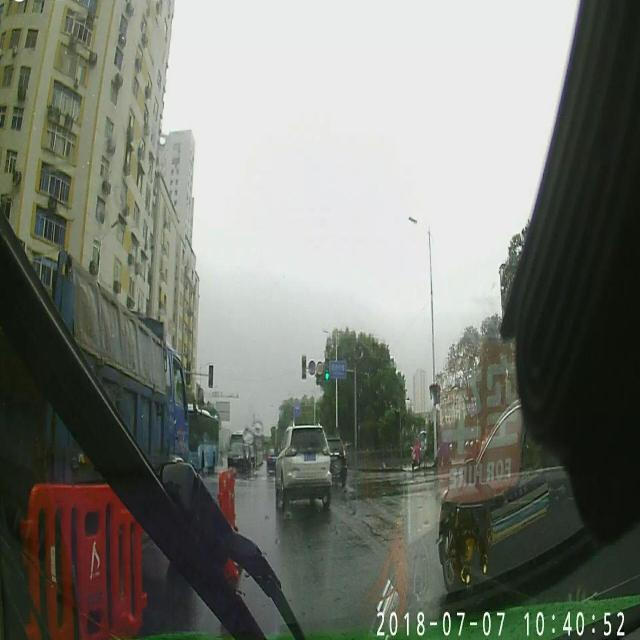car: (6, 244, 188, 503), (440, 402, 580, 590), (274, 422, 330, 517), (328, 436, 348, 483), (227, 441, 247, 471)
